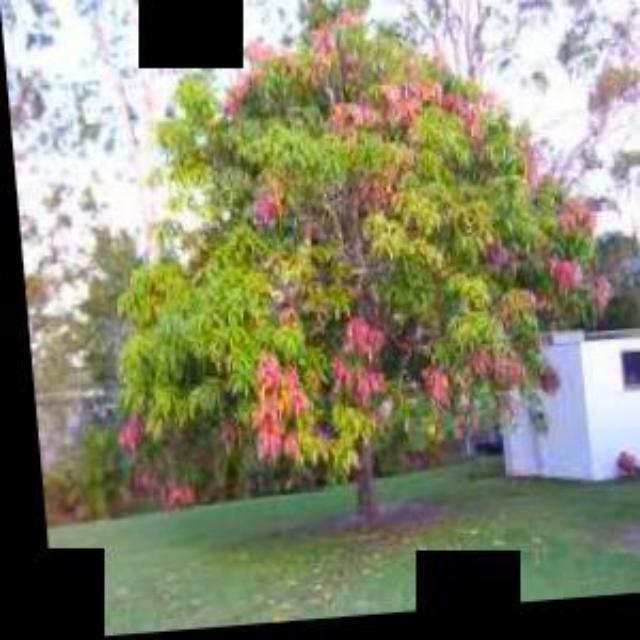tree: (94, 0, 612, 550)
